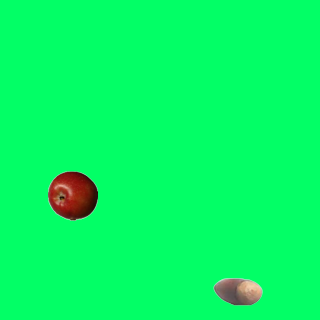Apple Braeburn: (47, 170, 97, 220)
Hazelnut: (212, 266, 262, 316)
